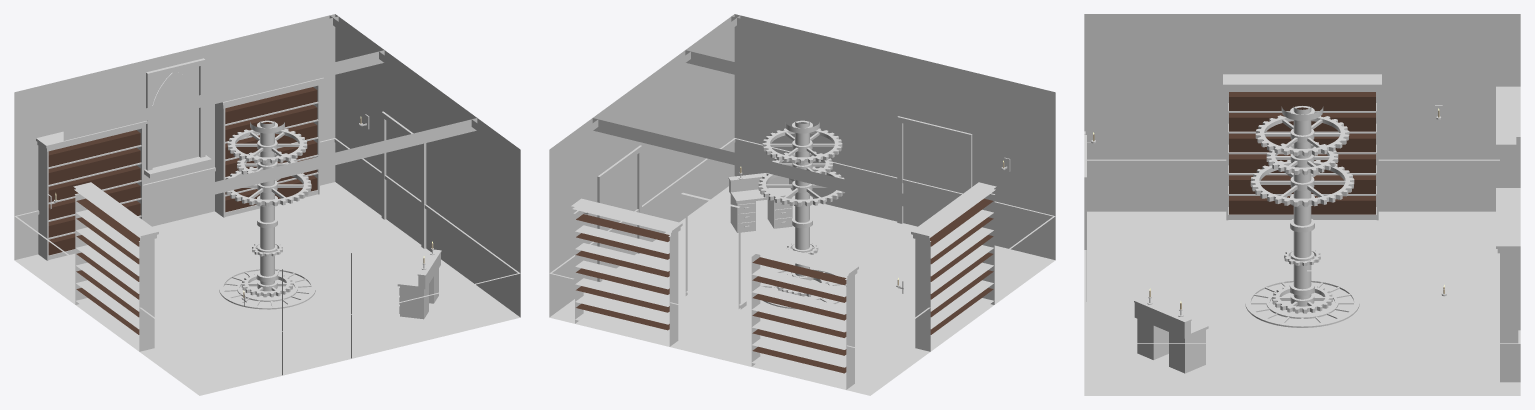
File: study.glb
3 views of the same model, side by side, from view 1: azimuth 30°, elevation 25°; view 2: azimuth 150°, elevation 25°; view 3: azimuth 270°, elevation 25° (orthographic). The views are drawn at different scales.
Parts seen in each view (by area): view 1: study, door-plug-e, door-frame-e; view 2: study, door-plug-s, door-plug-e, door-frame-s, door-frame-e; view 3: study, door-frame-s.
Part boxes in pixels (left/top/right/bottom): study: left=14, top=14, right=520, bottom=395; door-plug-e: left=384, top=121, right=421, bottom=244; door-frame-e: left=381, top=111, right=426, bottom=248; study: left=549, top=14, right=1055, bottom=395; door-plug-s: left=902, top=123, right=966, bottom=226; door-plug-e: left=602, top=155, right=638, bottom=268; door-frame-s: left=897, top=116, right=972, bottom=223; door-frame-e: left=597, top=145, right=641, bottom=281; study: left=1084, top=14, right=1520, bottom=395; door-frame-s: left=1084, top=135, right=1086, bottom=301.
Size of the model in its own units: 8 by 4 by 8.
